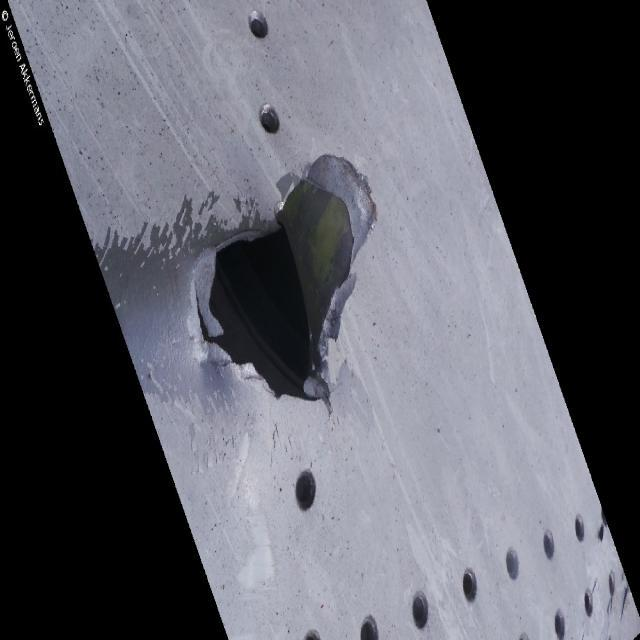crack: (191, 155, 379, 422), (620, 584, 632, 624)
